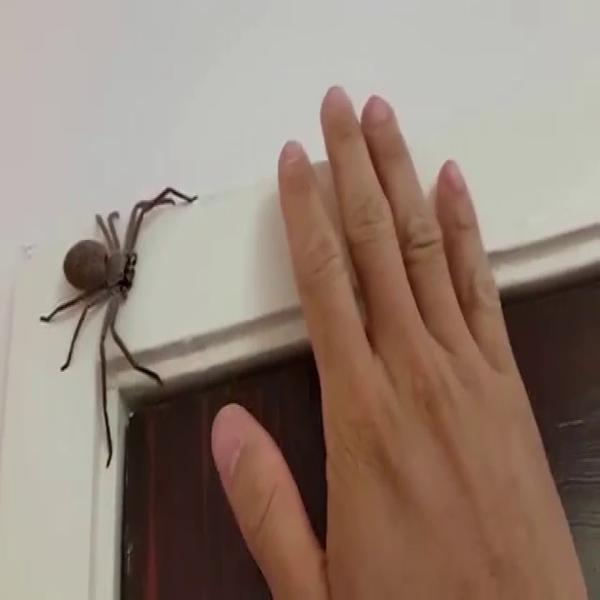Huntsman Spider: (47, 189, 197, 451)
